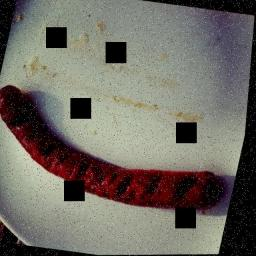hotdog: (0, 82, 248, 224)
